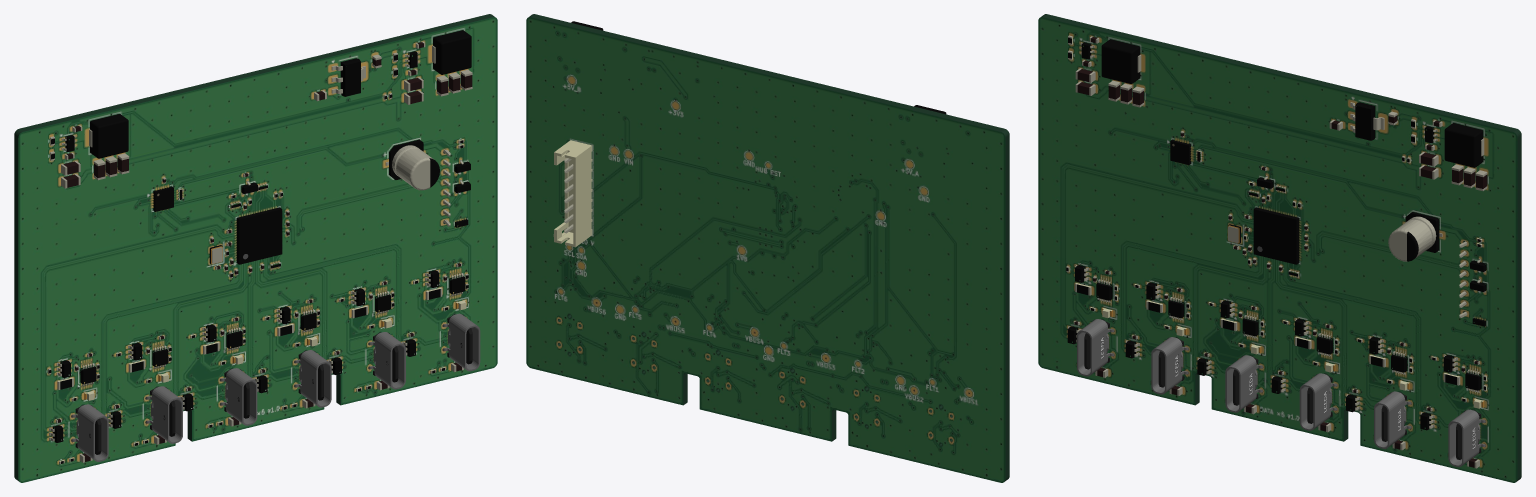
File: data-port-x6.glb
The picture shows the model from 3 angles, left to right: view 1: azimuth 30°, elevation 25°; view 2: azimuth 150°, elevation 25°; view 3: azimuth 330°, elevation 25°; orthographic projection.
Size of the model in its own units: 100 by 70 by 15.39.
21 materials, 2 textured.
